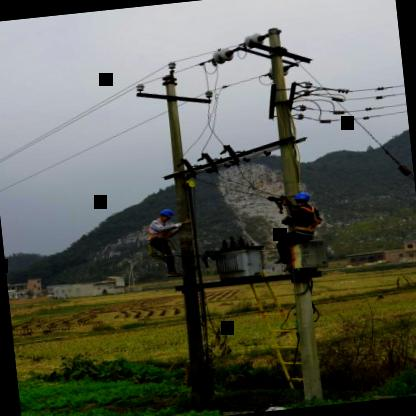helmet: (150, 205, 178, 226), (290, 188, 315, 206)
